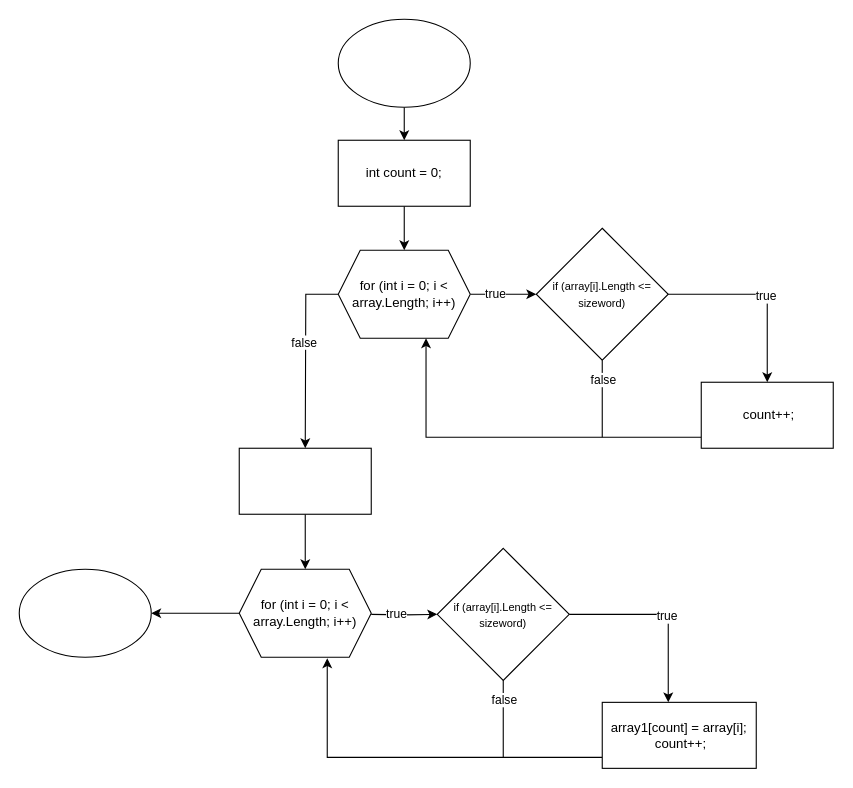
This 853x788 diagram has some shape labels left out. Each missing label, with the centre of its shape:
"return array1;" goes at point 84,612.
"START" goes at point 403,62.
"string[] array1 = new string[count]; count = 0;" goes at point 304,480.
